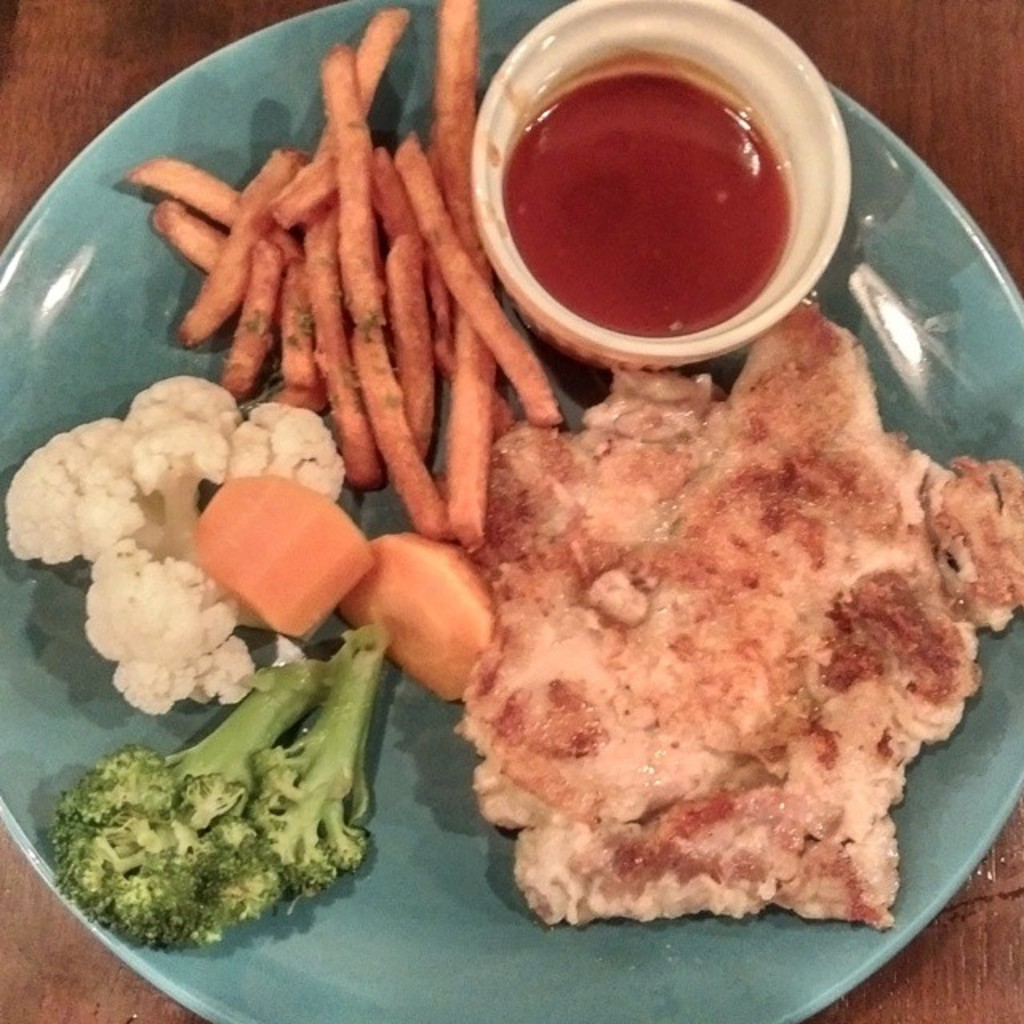French fries: (147, 65, 588, 510)
